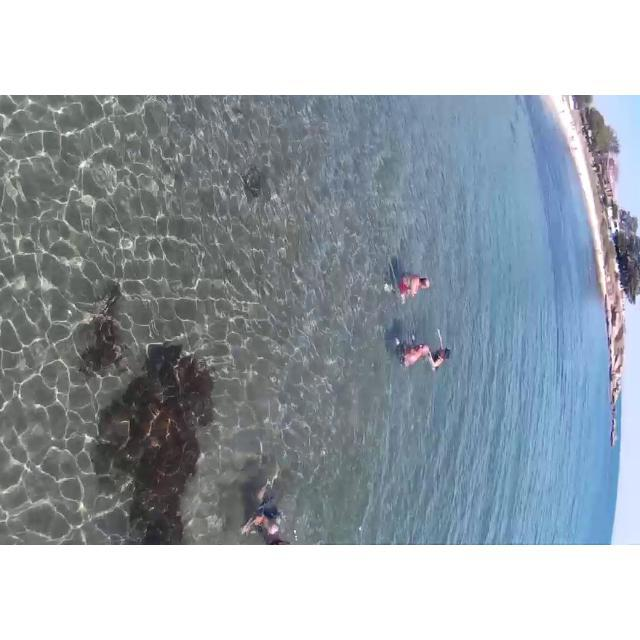human: (389, 259, 431, 315), (397, 335, 426, 376), (426, 339, 459, 371)
